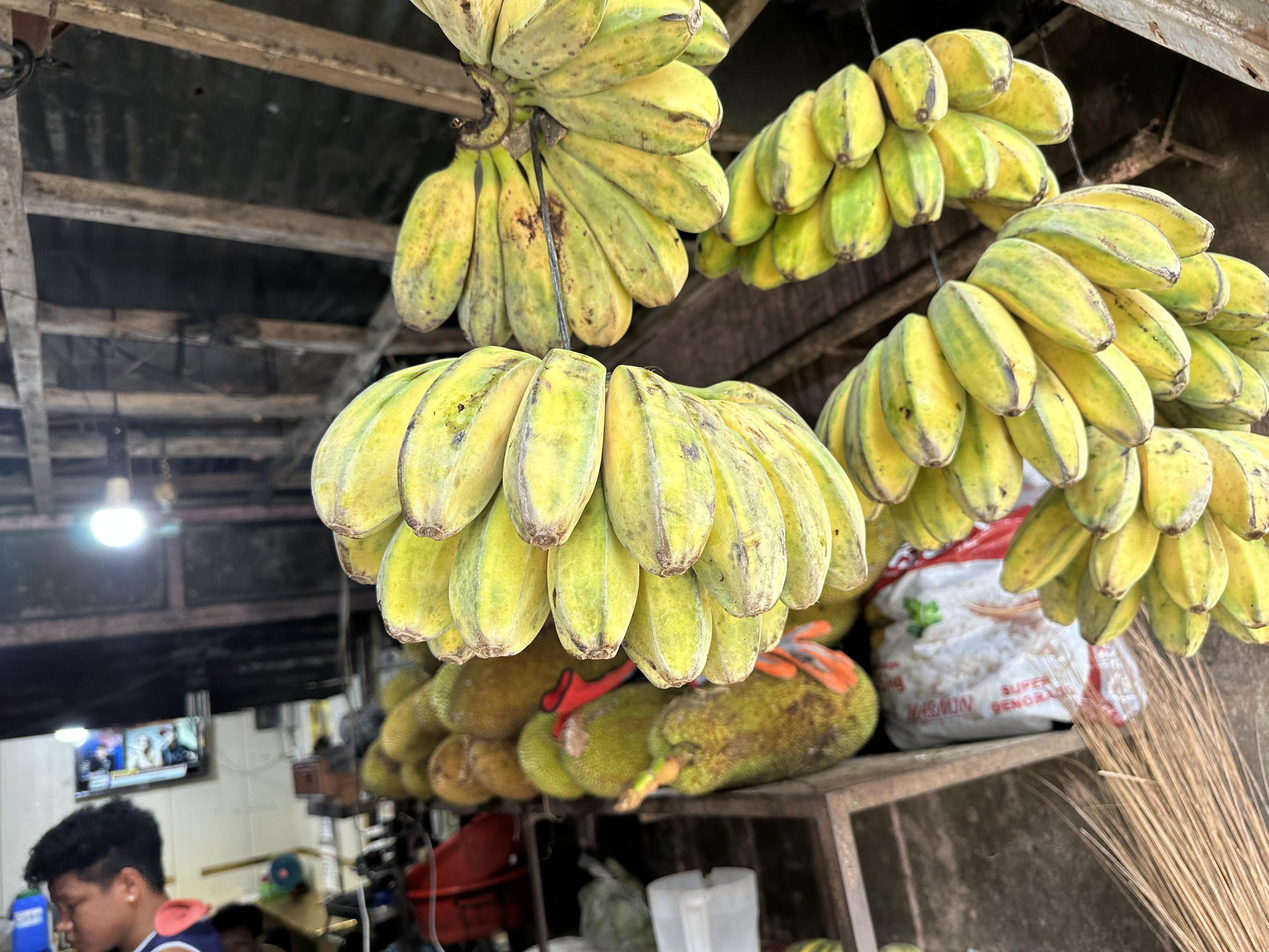underripe: (312, 347, 868, 690), (814, 184, 1226, 549), (391, 0, 731, 360), (692, 31, 1074, 288), (998, 415, 1269, 658), (1155, 251, 1269, 433)
